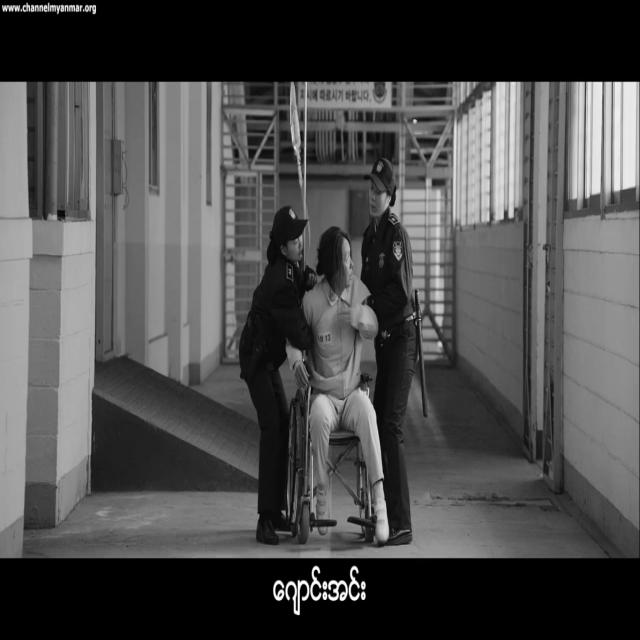gun: (248, 316, 267, 377)
